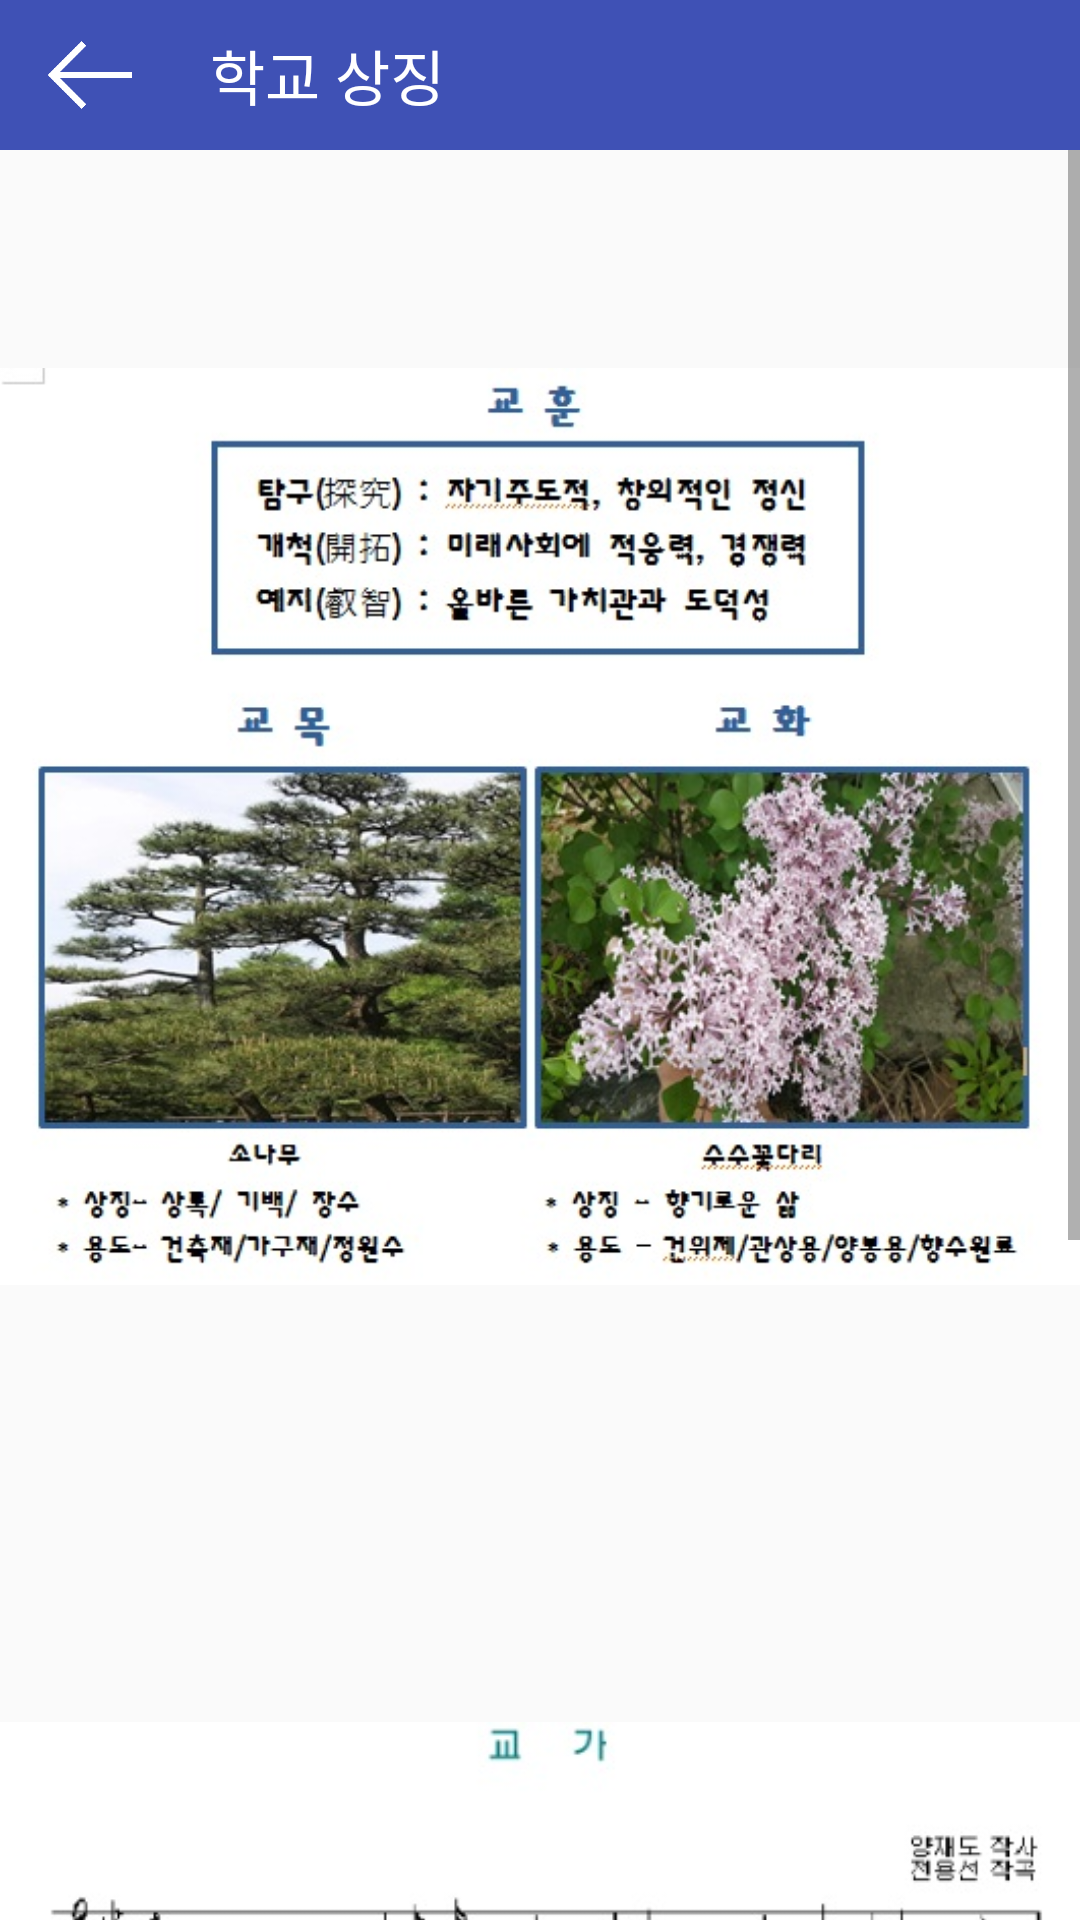

Named icons in this screenshot (1080 × 1920) and their bounding boxes, {"left": x1, "top": y1, "right": x2, "bottom": y2}:
back: {"left": 48, "top": 41, "right": 132, "bottom": 109}
